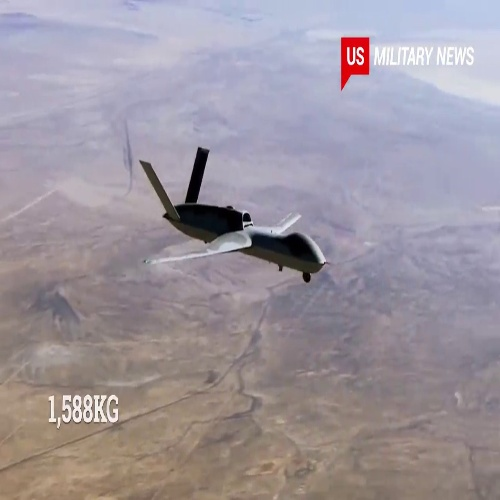uav1: (131, 146, 331, 286)
